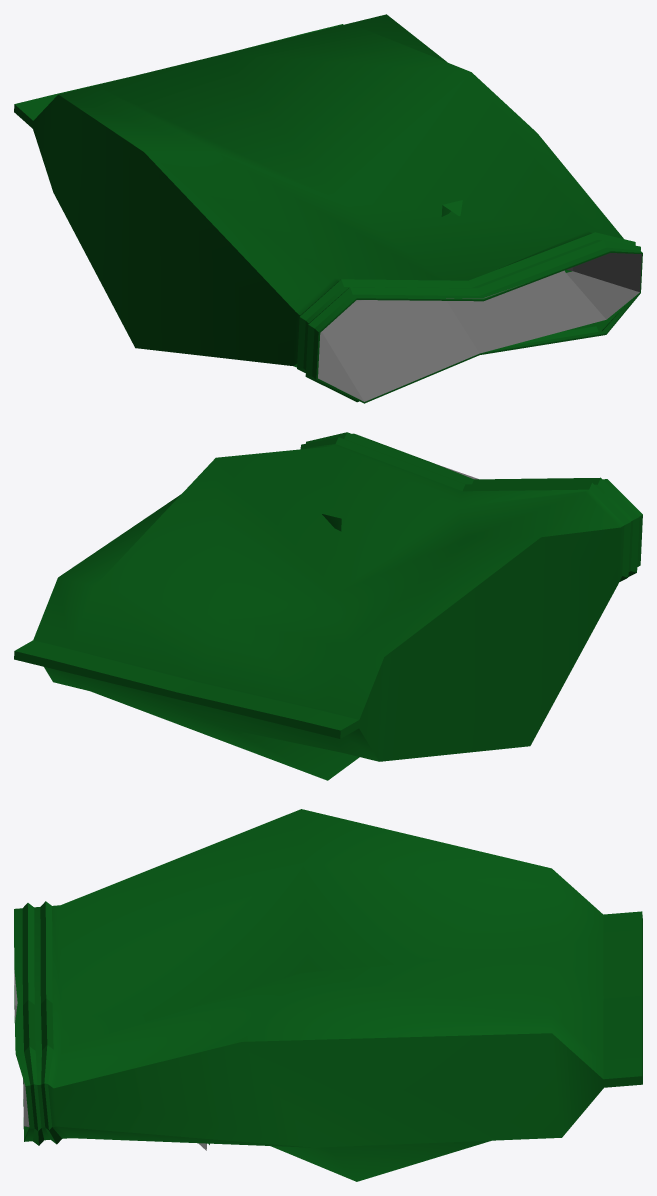
Rendered from sampah plastik kemasan snacks hijau.fbx.
The picture shows the model from 3 angles, top to bottom: view 1: azimuth 30°, elevation 25°; view 2: azimuth 150°, elevation 25°; view 3: azimuth 270°, elevation 25°; orthographic projection. The views are drawn at different scales.
Parts seen in each view (by area): view 1: Box001, dalam kemasan; view 2: Box001; view 3: Box001.
Part boxes in pixels (<box>): Box001: <box>14,14,642,403</box>; dalam kemasan: <box>318,253,641,401</box>; Box001: <box>14,432,642,780</box>; Box001: <box>14,809,642,1181</box>.
Bounding box in the file's own units: 255 × 158 × 323.
